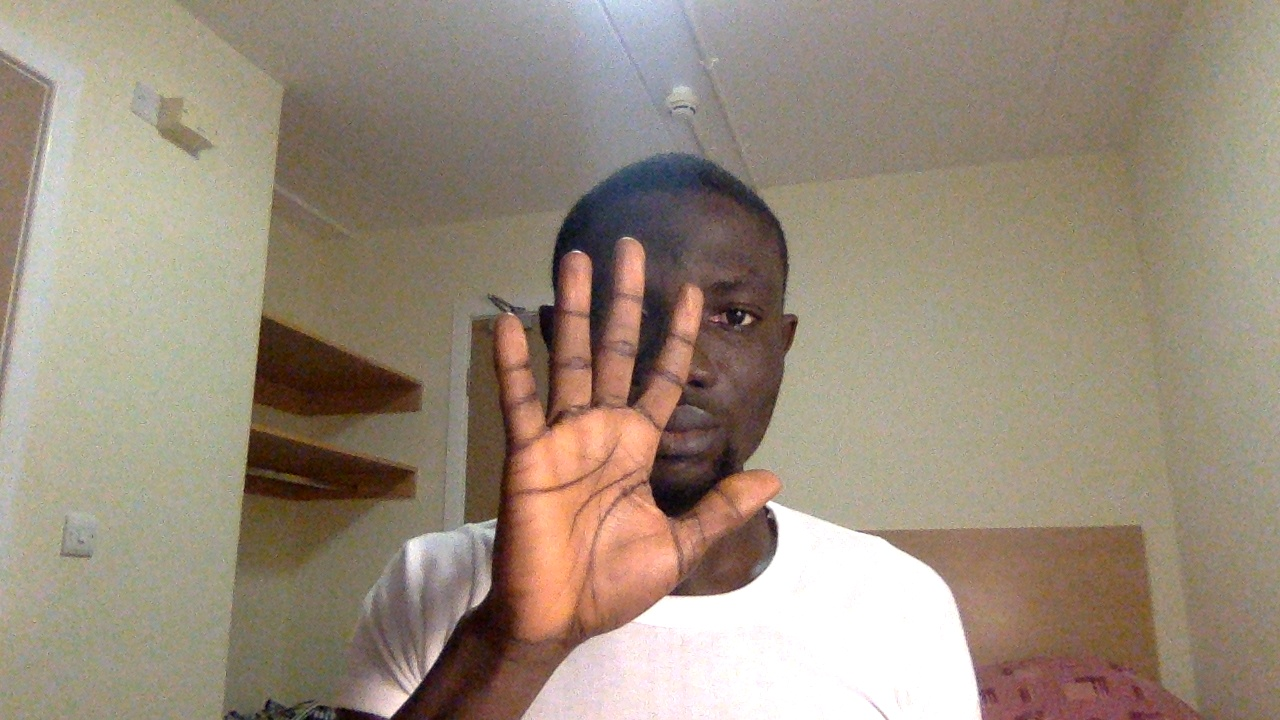Hello: (442, 230, 805, 653)
